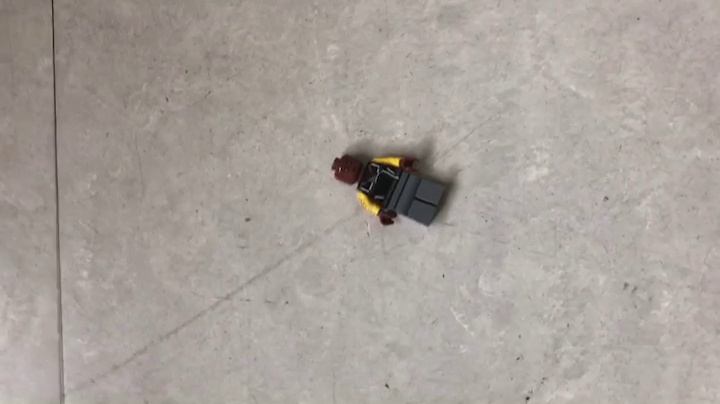people: (330, 152, 452, 227)
